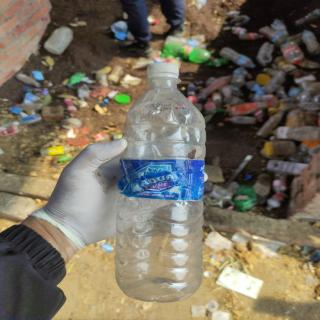Plastic-bottle: (111, 57, 212, 307)
